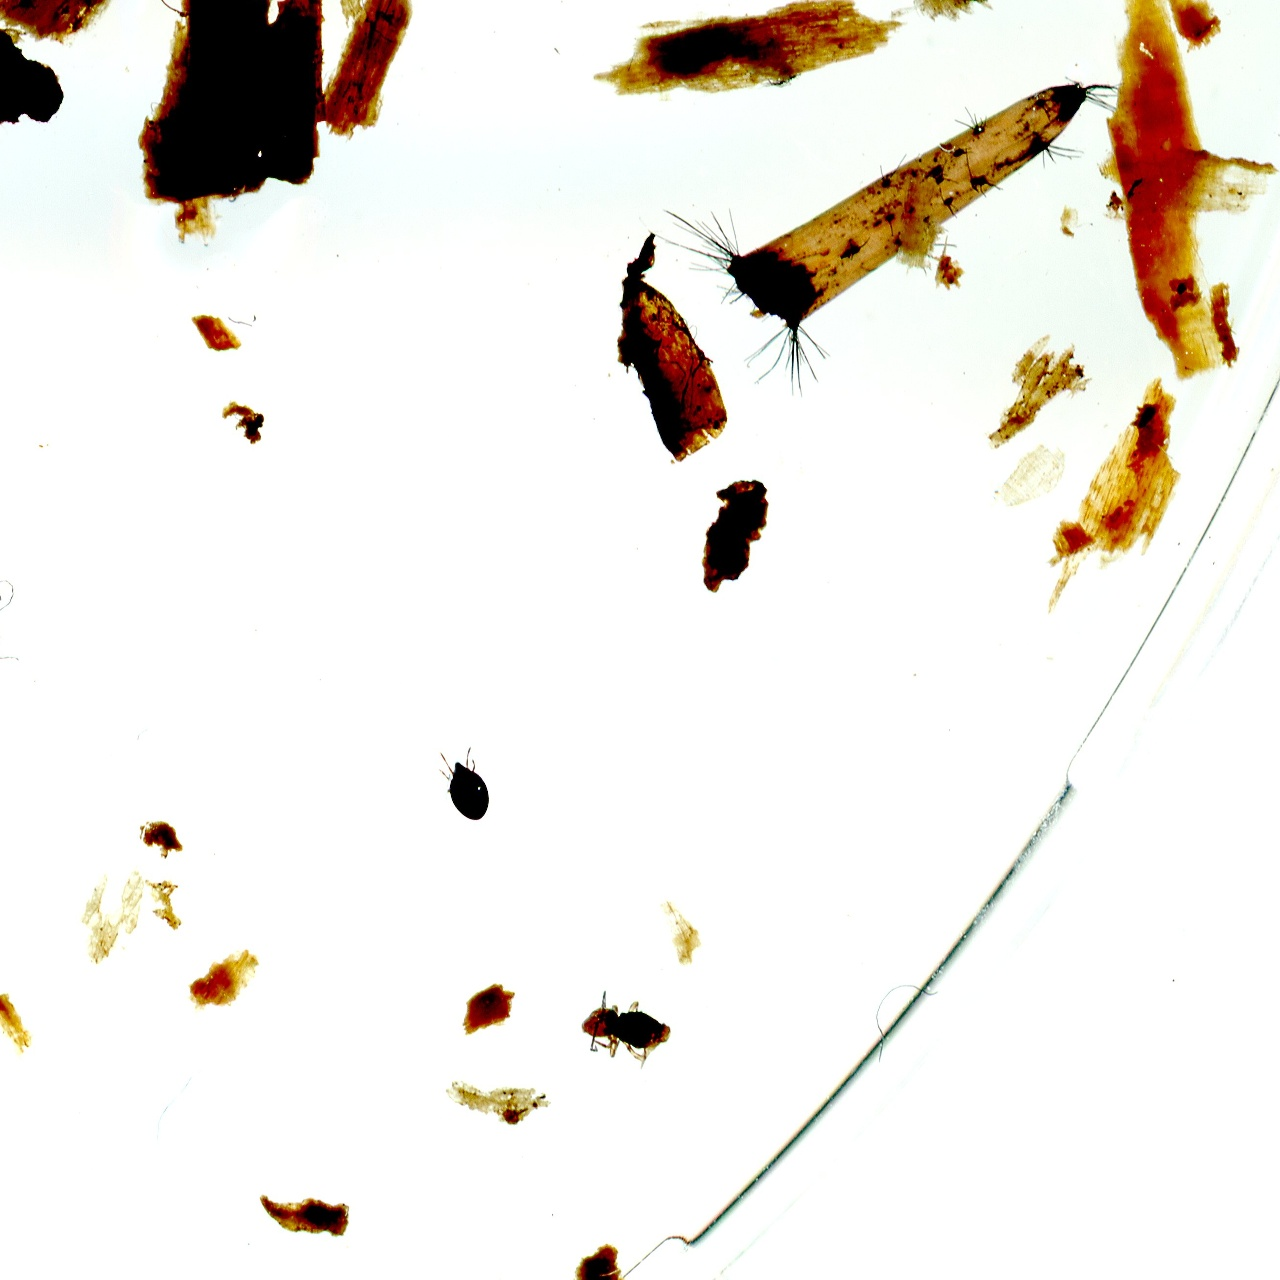arthropod: (580, 986, 680, 1074), (433, 742, 492, 826)
